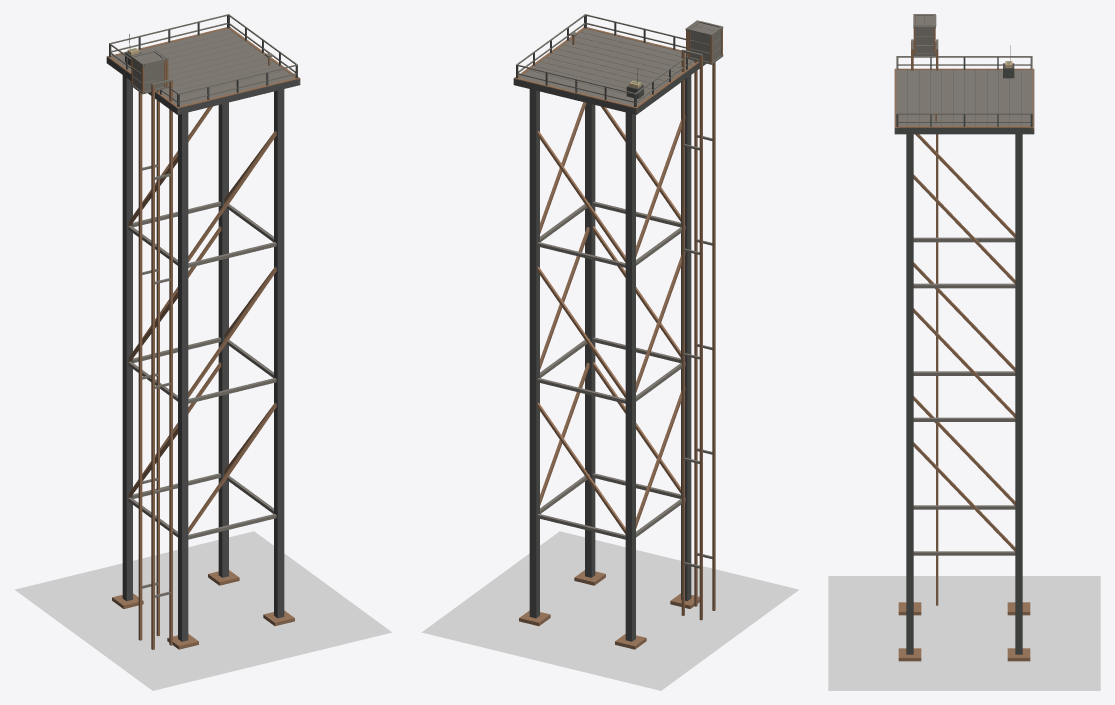
File: godot tower with lift2.glb
3 renders of one model, left to right at view 1: azimuth 30°, elevation 25°; view 2: azimuth 150°, elevation 25°; view 3: azimuth 270°, elevation 25°, orthographic.
Visible parts, largest first — view 1: GROUND_REF, Support_2, Support_4, Support_1, Support_3, LiftShaft_1, LiftShaft_2, LiftShaft_4, LiftShaft_3, DeckStructure, CrossBrace_04, CrossBrace_02 (+7 smaller); view 2: GROUND_REF, Support_1, Support_3, Support_4, Support_2, LiftShaft_1, LiftShaft_3, LiftShaft_2, LiftShaft_4, DeckStructure, DeckPanel_05, DeckPanel_06 (+15 smaller); view 3: GROUND_REF, Support_3, Support_4, DeckStructure, LiftShaft_3, DeckPanel_09, DeckPanel_05, DeckPanel_06, DeckPanel_03, DeckPanel_08, SupportRing_X_4.8_36, DeckPanel_04 (+18 smaller).
Part boxes in pixels (x1=…): GROUND_REF: x1=15, y1=531, x2=392, y2=690; Support_2: x1=178, y1=112, x2=188, y2=641; Support_4: x1=274, y1=89, x2=284, y2=618; Support_1: x1=122, y1=75, x2=132, y2=601; Support_3: x1=218, y1=102, x2=228, y2=577; LiftShaft_1: x1=138, y1=92, x2=142, y2=640; LiftShaft_2: x1=151, y1=85, x2=154, y2=649; LiftShaft_4: x1=169, y1=80, x2=172, y2=645; LiftShaft_3: x1=156, y1=90, x2=159, y2=636; DeckStructure: x1=106, y1=57, x2=300, y2=114; CrossBrace_04: x1=188, y1=266, x2=276, y2=398; CrossBrace_02: x1=188, y1=402, x2=276, y2=533; GROUND_REF: x1=421, y1=531, x2=798, y2=690; Support_1: x1=625, y1=112, x2=635, y2=641; Support_3: x1=529, y1=89, x2=539, y2=618; Support_4: x1=585, y1=103, x2=595, y2=577; Support_2: x1=681, y1=75, x2=691, y2=601; LiftShaft_1: x1=699, y1=55, x2=702, y2=620; LiftShaft_3: x1=681, y1=51, x2=684, y2=615; LiftShaft_2: x1=712, y1=62, x2=715, y2=610; LiftShaft_4: x1=694, y1=60, x2=697, y2=606; DeckStructure: x1=513, y1=62, x2=705, y2=114; DeckPanel_05: x1=546, y1=53, x2=667, y2=85; DeckPanel_06: x1=552, y1=49, x2=673, y2=81; GROUND_REF: x1=828, y1=576, x2=1100, y2=690; Support_3: x1=1015, y1=134, x2=1022, y2=654; Support_4: x1=906, y1=134, x2=913, y2=654; DeckStructure: x1=894, y1=70, x2=1034, y2=134; LiftShaft_3: x1=936, y1=49, x2=938, y2=605; DeckPanel_09: x1=919, y1=70, x2=930, y2=126; DeckPanel_05: x1=964, y1=70, x2=975, y2=126; DeckPanel_06: x1=953, y1=70, x2=964, y2=126; DeckPanel_03: x1=987, y1=70, x2=998, y2=126; DeckPanel_08: x1=930, y1=70, x2=941, y2=126; SupportRing_X_4.8_36: x1=913, y1=283, x2=1015, y2=288; DeckPanel_04: x1=976, y1=70, x2=986, y2=126.
Bounding box in the file's own units: 24 × 58.14 × 24.
